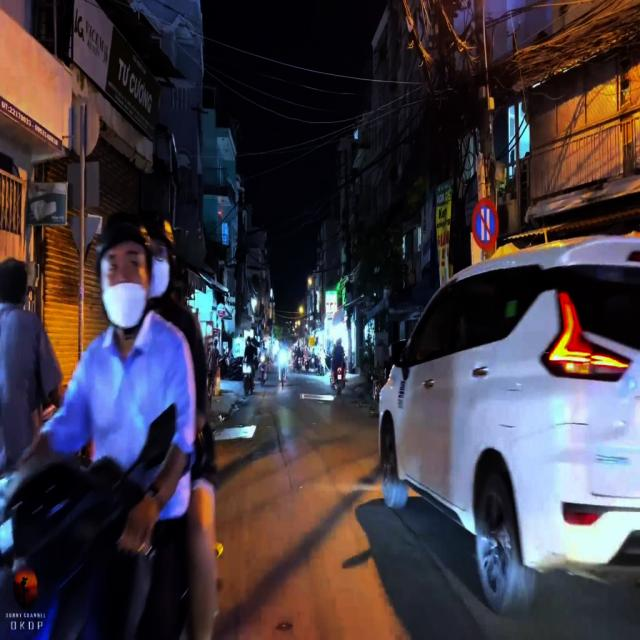cam_do_xe: (470, 195, 499, 254)
